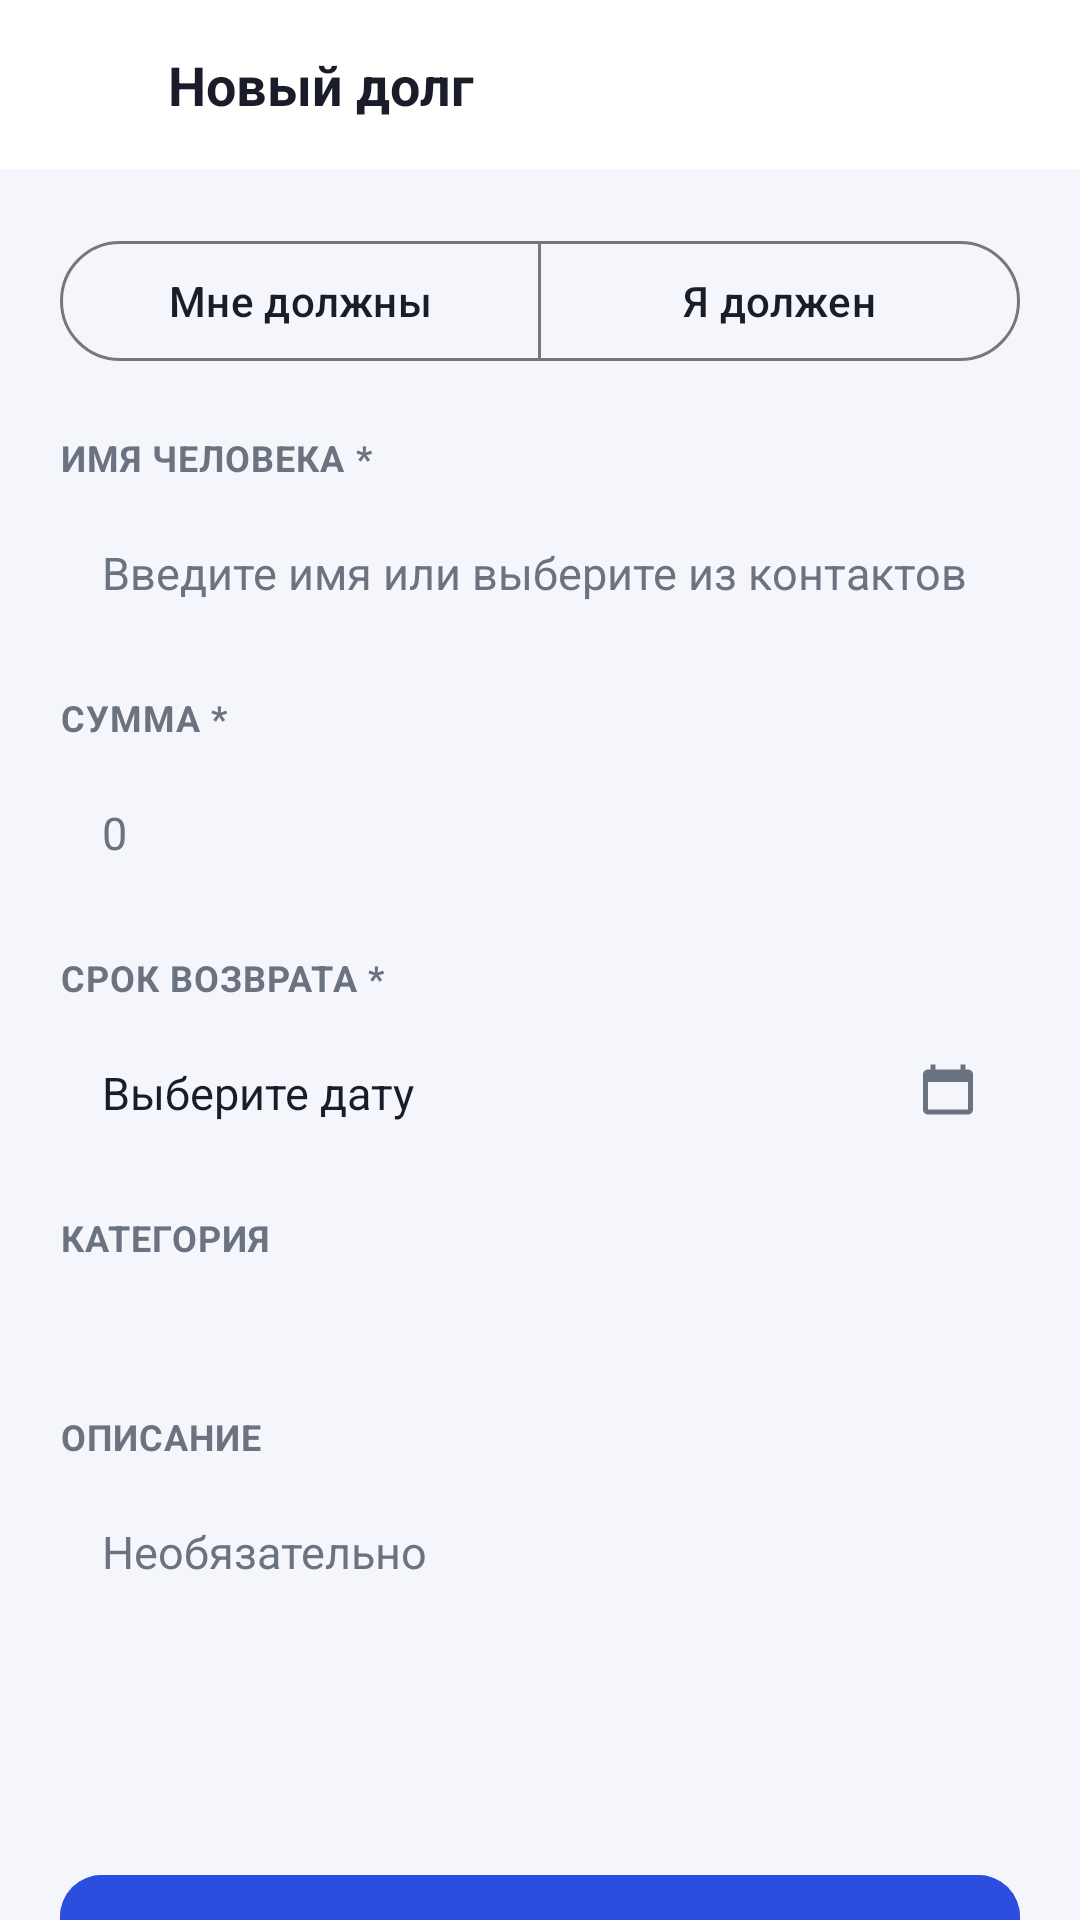

Icons on this 1080×1920 Android screen, each with the point to tap as (x,y):
calendar: (948,1089)
